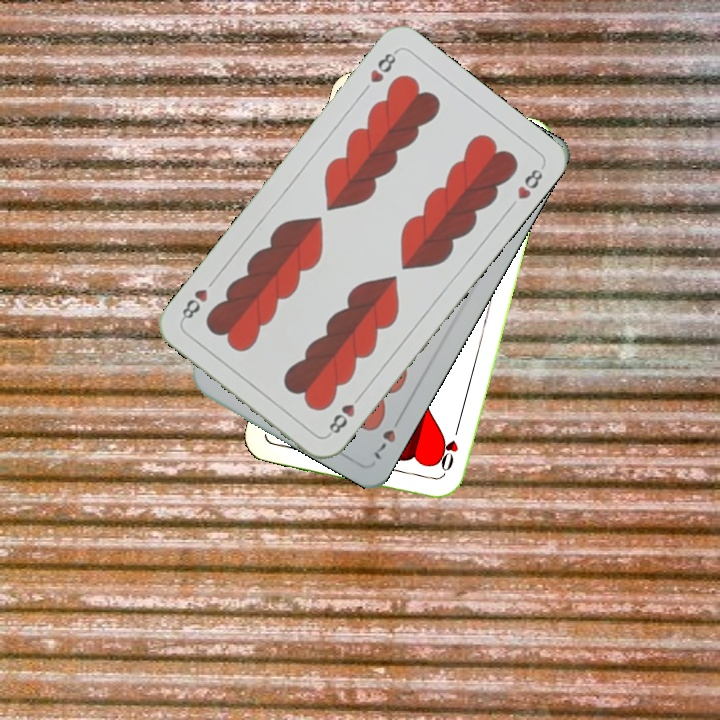H7: (369, 410, 405, 463)
H8: (323, 389, 365, 439), (365, 46, 400, 86)
HO: (432, 423, 462, 481)
